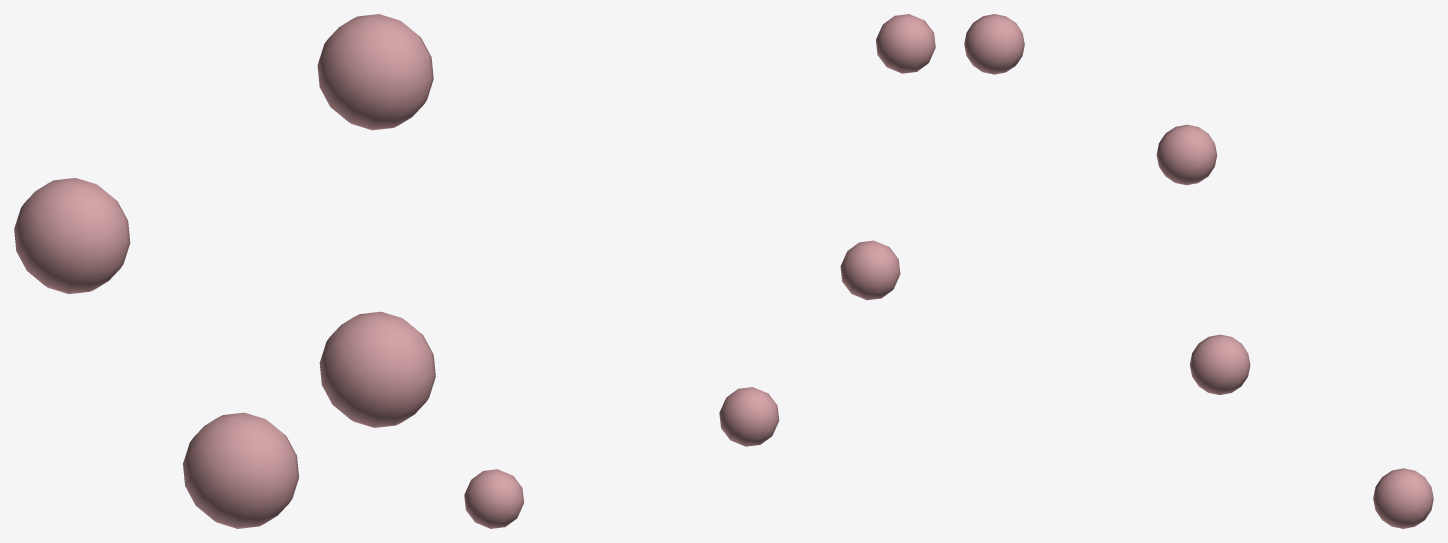
3 views of the same model, side by side, from view 1: azimuth 30°, elevation 25°; view 2: azimuth 150°, elevation 25°; view 3: azimuth 270°, elevation 25° (orthographic). The views are drawn at different scales.
Parts seen in each view (by area): view 1: ZA_a2fda9f7584b2084; view 2: ZA_a2fda9f7584b2084; view 3: ZA_a2fda9f7584b2084.
Boxes of the visible parts, x1,y1,x2,y2 form: ZA_a2fda9f7584b2084: (14, 14, 435, 528); ZA_a2fda9f7584b2084: (464, 14, 935, 528); ZA_a2fda9f7584b2084: (964, 14, 1433, 528).
Size of the model in its own units: 0.0157 by 0.0193 by 0.0201.
